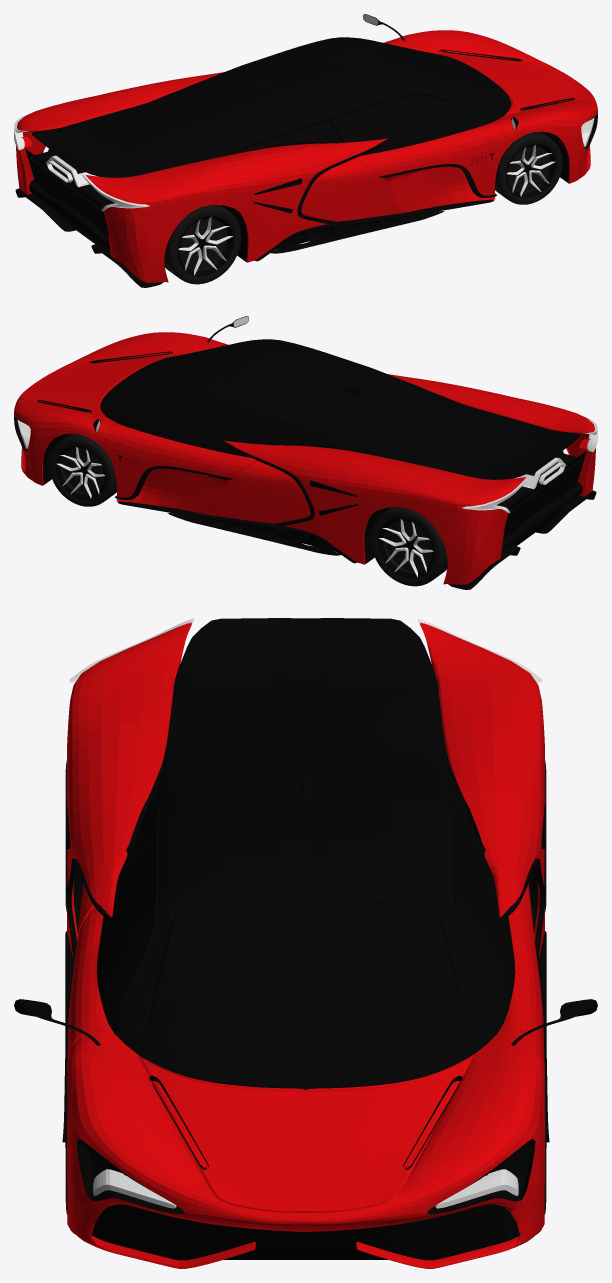
File: uploads_files_5057007_707GTLowPoly.fbx
3 views of the same model, one above another, from view 1: azimuth 30°, elevation 25°; view 2: azimuth 150°, elevation 25°; view 3: azimuth 270°, elevation 25° (orthographic). The views are drawn at different scales.
Visible parts, largest first — view 1: Roof and windows, Front body, Back body, Back Tires, Front Tires, Side detail 2, Back, Back Rims, Front Rims, Back structure 2, Floor detail, Difuser (+6 smaller); view 2: Roof and windows, Front body, Back body, Back Tires, Front Tires, Side detail 2, Back, Back Rims, Front Rims, Back structure 2, Floor detail, Difuser (+6 smaller); view 3: Roof and windows, Front body, Back body, Front lights, Air Entrace, Mirros, Floor detail, Door detail, Front detail.
Boxes of the visible parts, left/top/right/bottom form: Roof and windows: left=31, top=37, right=511, bottom=177; Front body: left=301, top=30, right=597, bottom=221; Back body: left=16, top=72, right=387, bottom=282; Back Tires: left=48, top=149, right=241, bottom=284; Front Tires: left=495, top=131, right=562, bottom=204; Side detail 2: left=271, top=211, right=443, bottom=253; Back: left=25, top=149, right=108, bottom=236; Back Rims: left=177, top=216, right=233, bottom=276; Front Rims: left=506, top=143, right=556, bottom=197; Back structure 2: left=29, top=179, right=110, bottom=249; Floor detail: left=254, top=199, right=494, bottom=261; Difuser: left=15, top=188, right=163, bottom=287; Roof and windows: left=100, top=339, right=580, bottom=479; Front body: left=14, top=332, right=310, bottom=523; Back body: left=224, top=374, right=595, bottom=584; Back Tires: left=370, top=451, right=563, bottom=586; Front Tires: left=49, top=433, right=116, bottom=506; Side detail 2: left=168, top=513, right=340, bottom=555; Back: left=503, top=451, right=586, bottom=538; Back Rims: left=378, top=518, right=434, bottom=578; Front Rims: left=55, top=445, right=105, bottom=499; Back structure 2: left=501, top=482, right=582, bottom=551; Floor detail: left=117, top=501, right=357, bottom=563; Difuser: left=448, top=490, right=596, bottom=589; Roof and windows: left=96, top=618, right=515, bottom=1090; Front body: left=66, top=883, right=545, bottom=1268; Back body: left=67, top=622, right=544, bottom=957; Front lights: left=93, top=1169, right=518, bottom=1208; Air Entrace: left=67, top=858, right=544, bottom=955; Mirros: left=14, top=999, right=597, bottom=1045; Floor detail: left=65, top=931, right=546, bottom=1147; Door detail: left=62, top=951, right=549, bottom=1142; Front detail: left=149, top=1075, right=462, bottom=1169.
Bounding box in the file's own units: 484 × 112 × 243.
